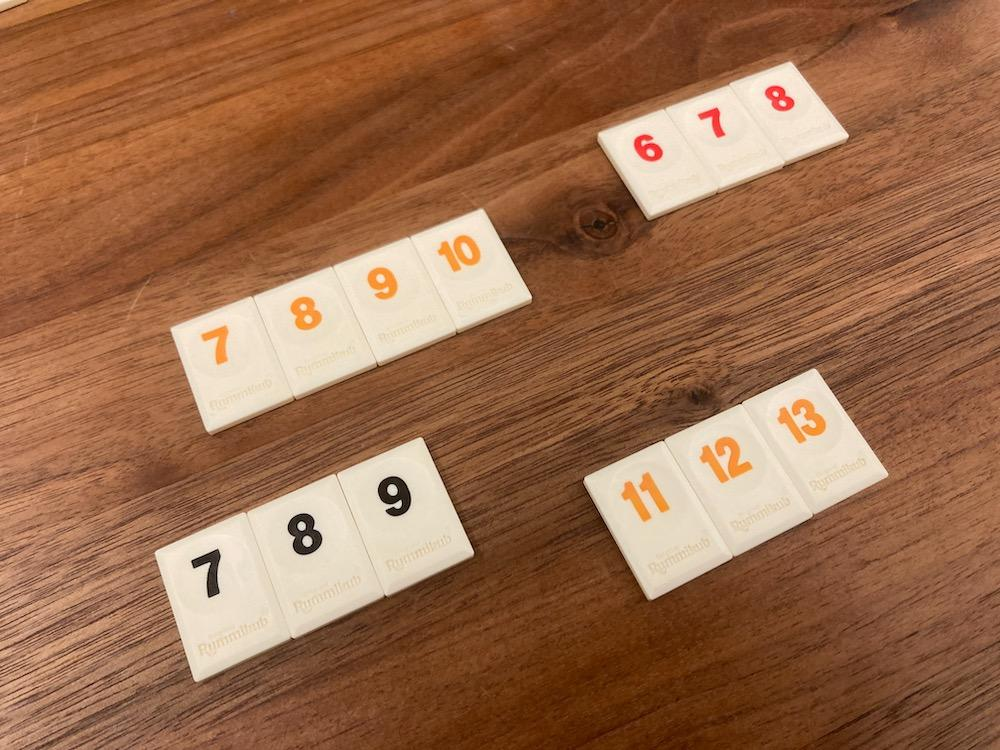black_7: (156, 514, 289, 681)
black_8: (248, 475, 383, 637)
black_9: (338, 438, 473, 596)
orange_10: (412, 209, 531, 331)
orange_11: (584, 441, 732, 600)
orange_12: (666, 404, 811, 555)
orange_13: (744, 369, 887, 513)
orange_7: (172, 297, 293, 434)
orange_8: (254, 268, 377, 397)
orange_9: (334, 238, 455, 364)
red_6: (598, 109, 717, 218)
red_7: (666, 86, 783, 190)
red_8: (730, 62, 848, 163)
